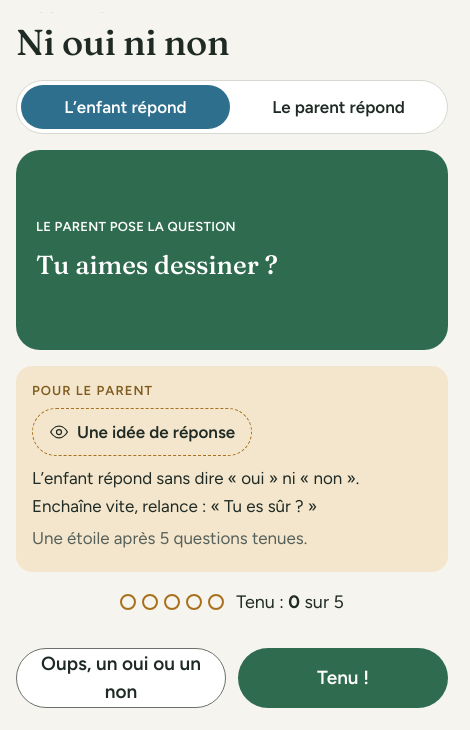
Scenario: Ni oui ni non › le parent pose les questions ; 5 tenues = une étoile, sans minuteur
Later steps or results of the test are not shown.
(page scrolled)
expect the heading "Ni oui ni non" is shown: met, box [16, 20, 229, 64]
expect the element "question" shows "Le parent pose la question": met, box [36, 219, 236, 234]
Step 1. Click the button "Tenu !" → click(343, 678), box [238, 648, 448, 708]
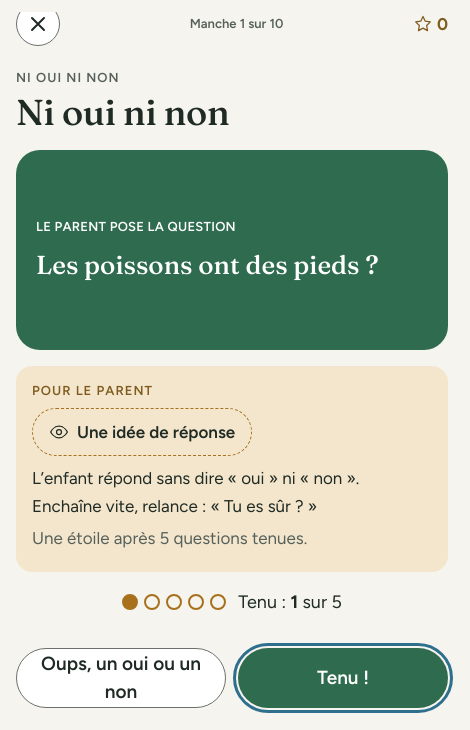
Step 2. Click the button "Tenu !" → click(343, 678), box [238, 648, 448, 708]
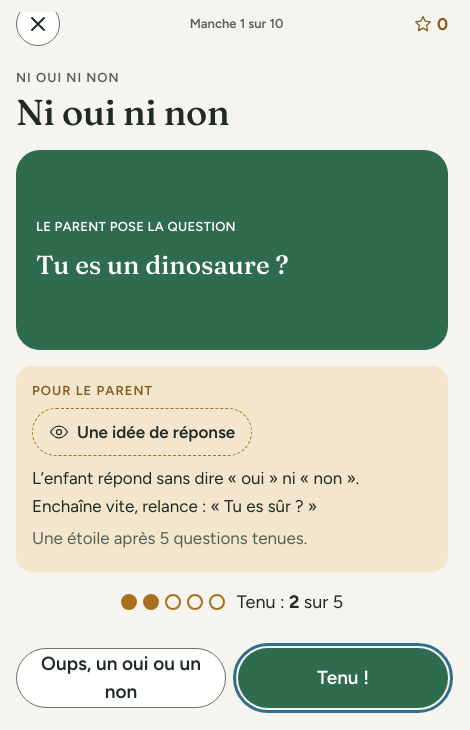
Step 3. Click the button "Tenu !" → click(343, 678), box [238, 648, 448, 708]
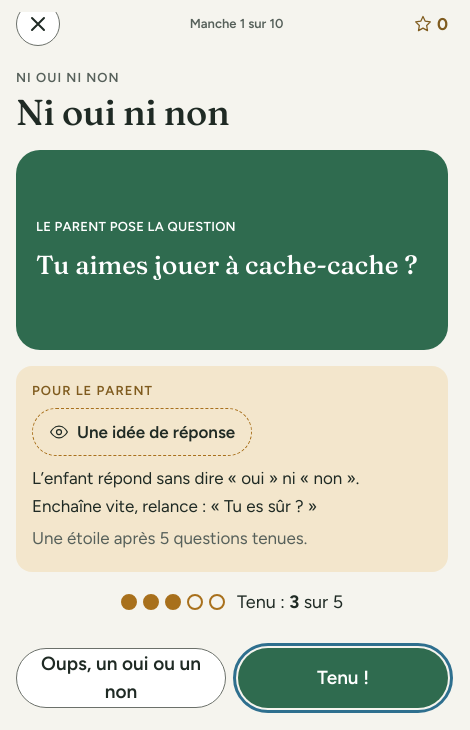
Step 4. Click the button "Tenu !" → click(343, 678), box [238, 648, 448, 708]
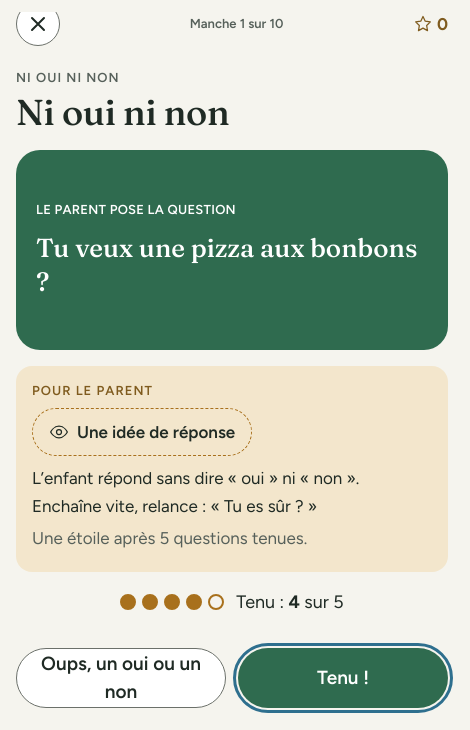
expect the text "Manche 1 sur 10" is shown: met, box [190, 15, 283, 33]
